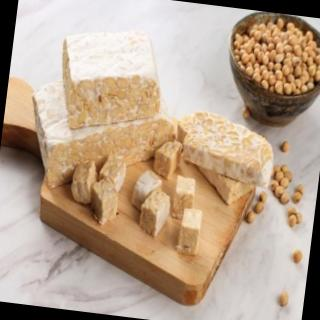Tempe: (14, 18, 290, 266)
